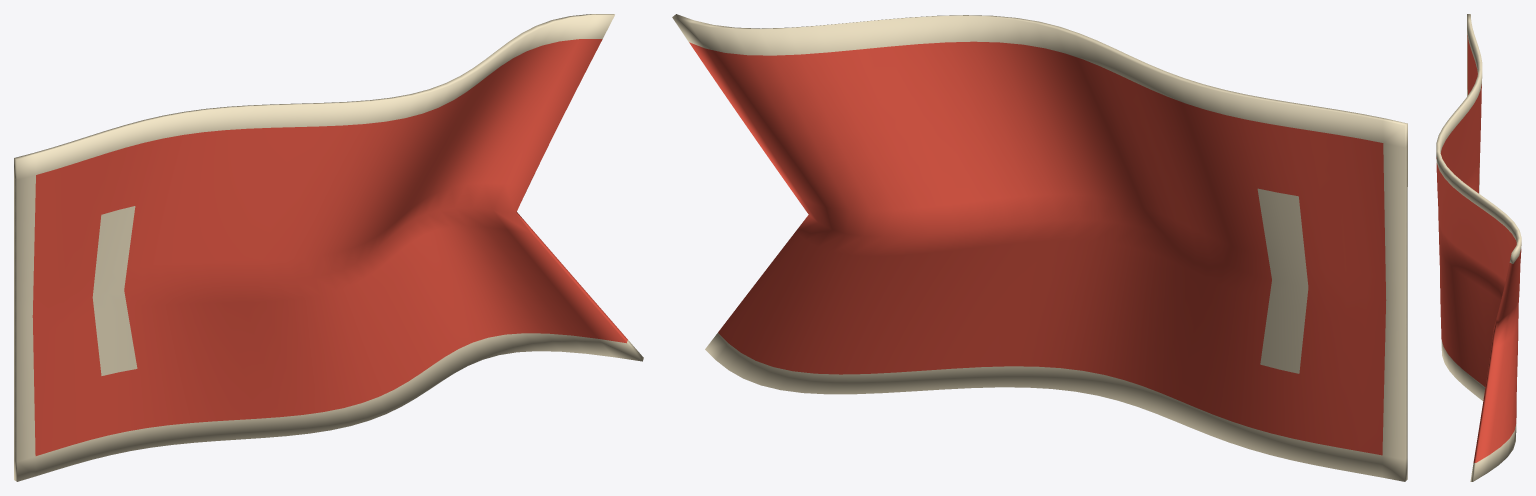
The model's file is flag-0.glb.
3 views of the same model, side by side, from view 1: azimuth 30°, elevation 25°; view 2: azimuth 150°, elevation 25°; view 3: azimuth 270°, elevation 25° (orthographic). The views are drawn at different scales.
Visible parts, largest first — view 1: Captain standard; view 2: Captain standard; view 3: Captain standard.
Boxes of the visible parts, x1,y1,x2,y2 form: Captain standard: (14,14,643,481); Captain standard: (672,14,1407,481); Captain standard: (1436,14,1521,481).
Size of the model in its own units: 1.6 by 0.8638 by 0.2662.
